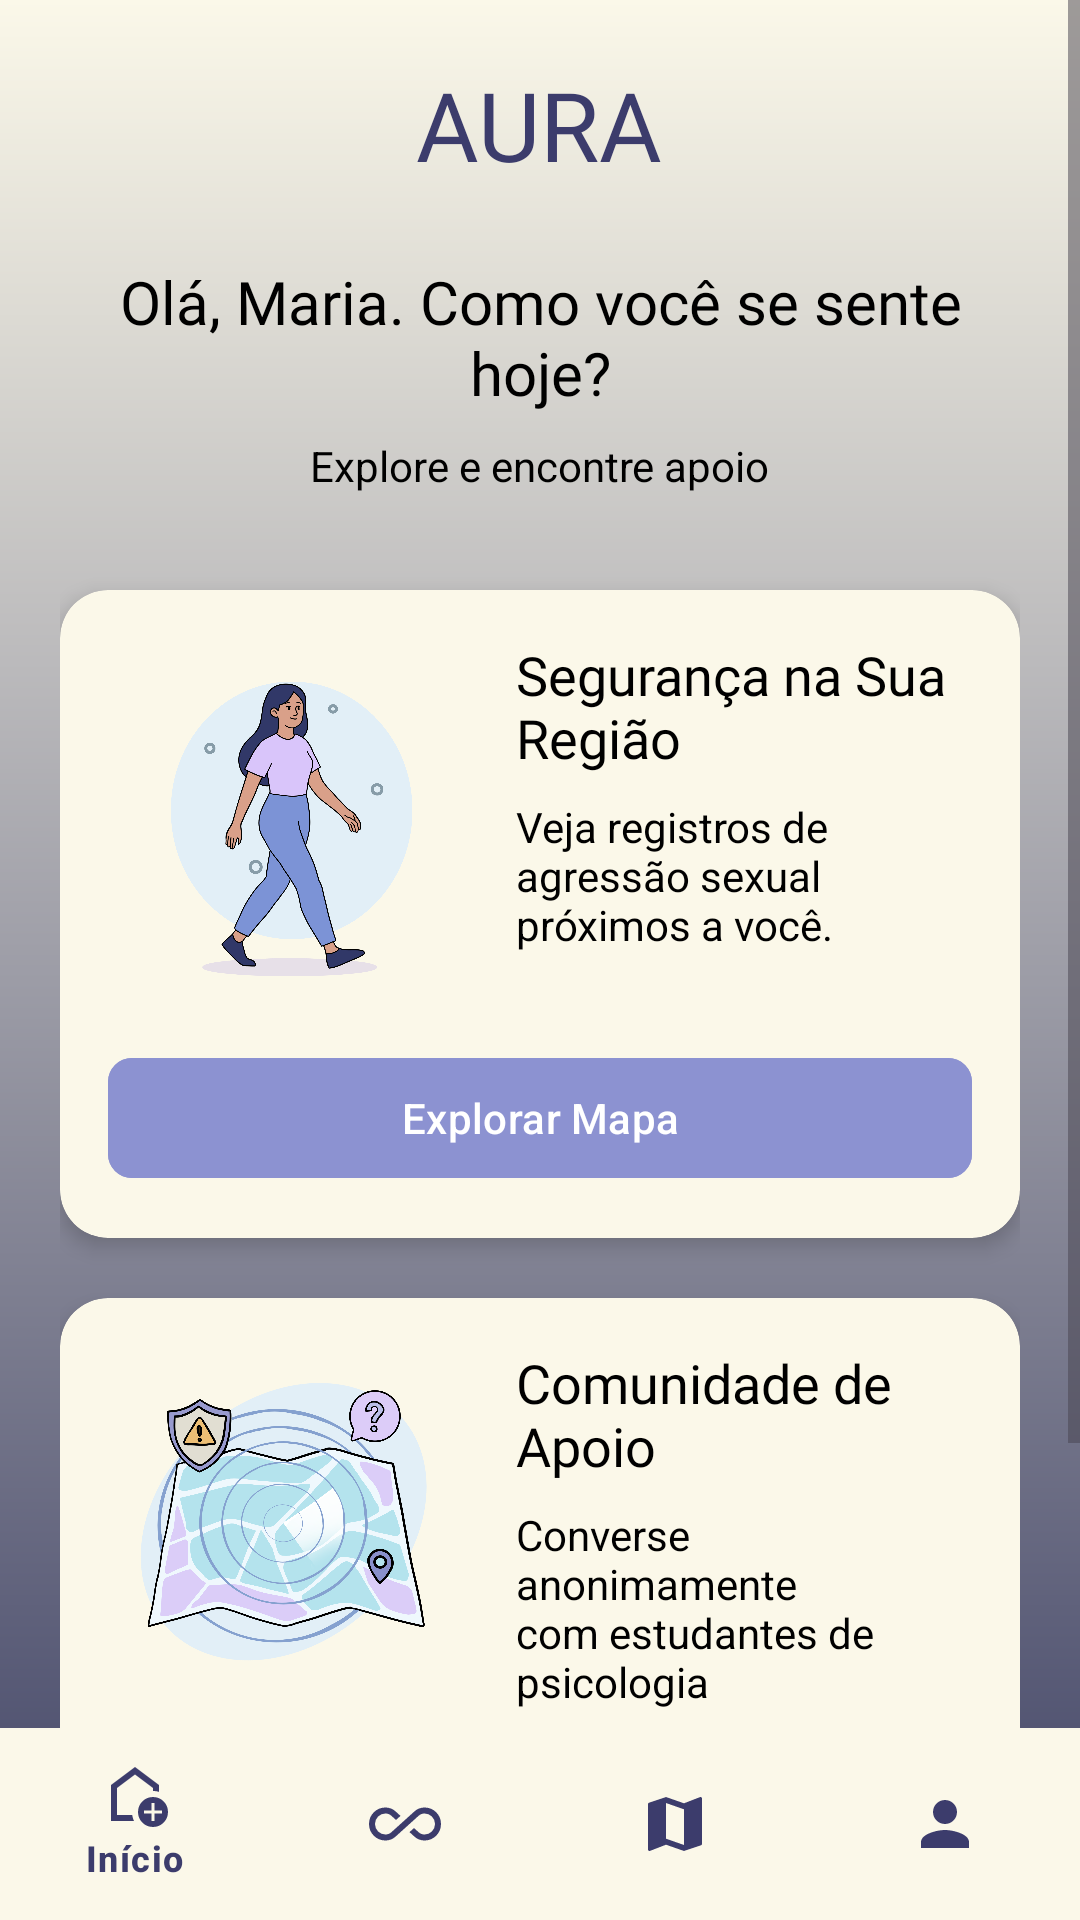

Icon bounding boxes for this 1080px x 1920px phone screenshot, format (x1, y1, x2, y2):
imagem: (171, 682, 412, 969), (141, 1383, 426, 1660)
